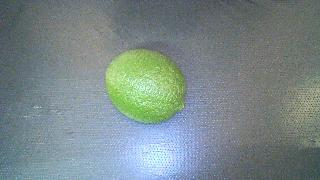EXPORTACION: (106, 49, 186, 123)
